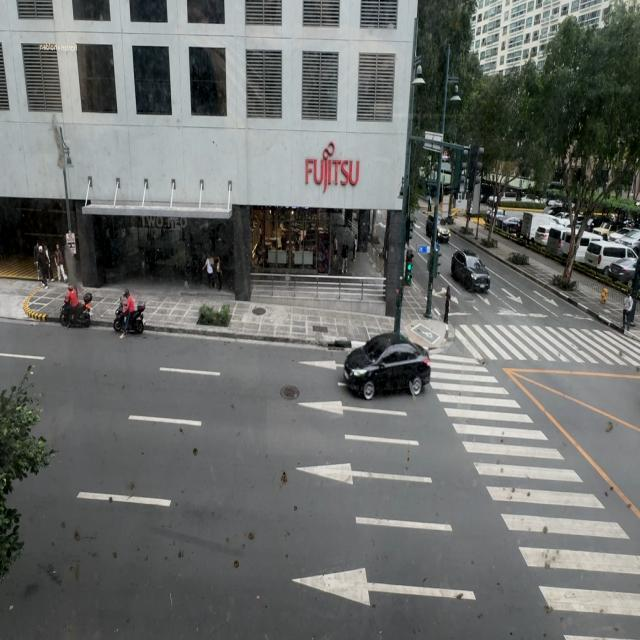waiting: (620, 288, 636, 342)
